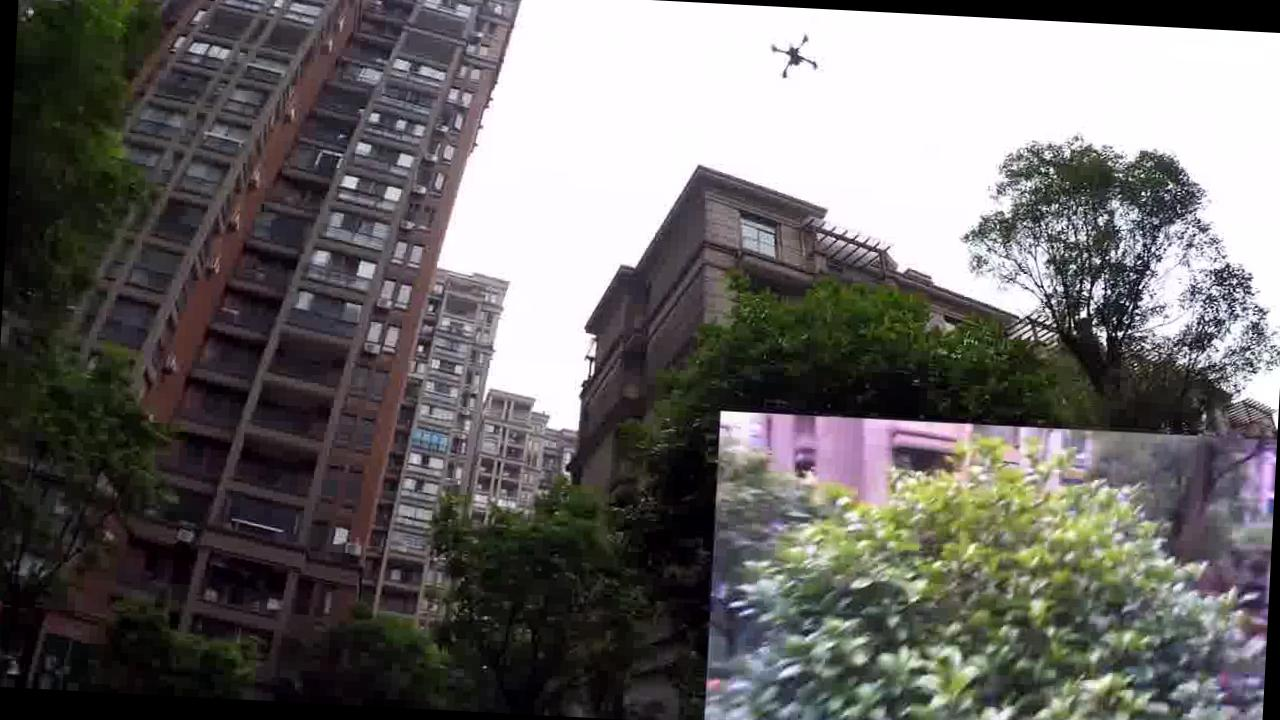drone: (763, 13, 823, 80)
